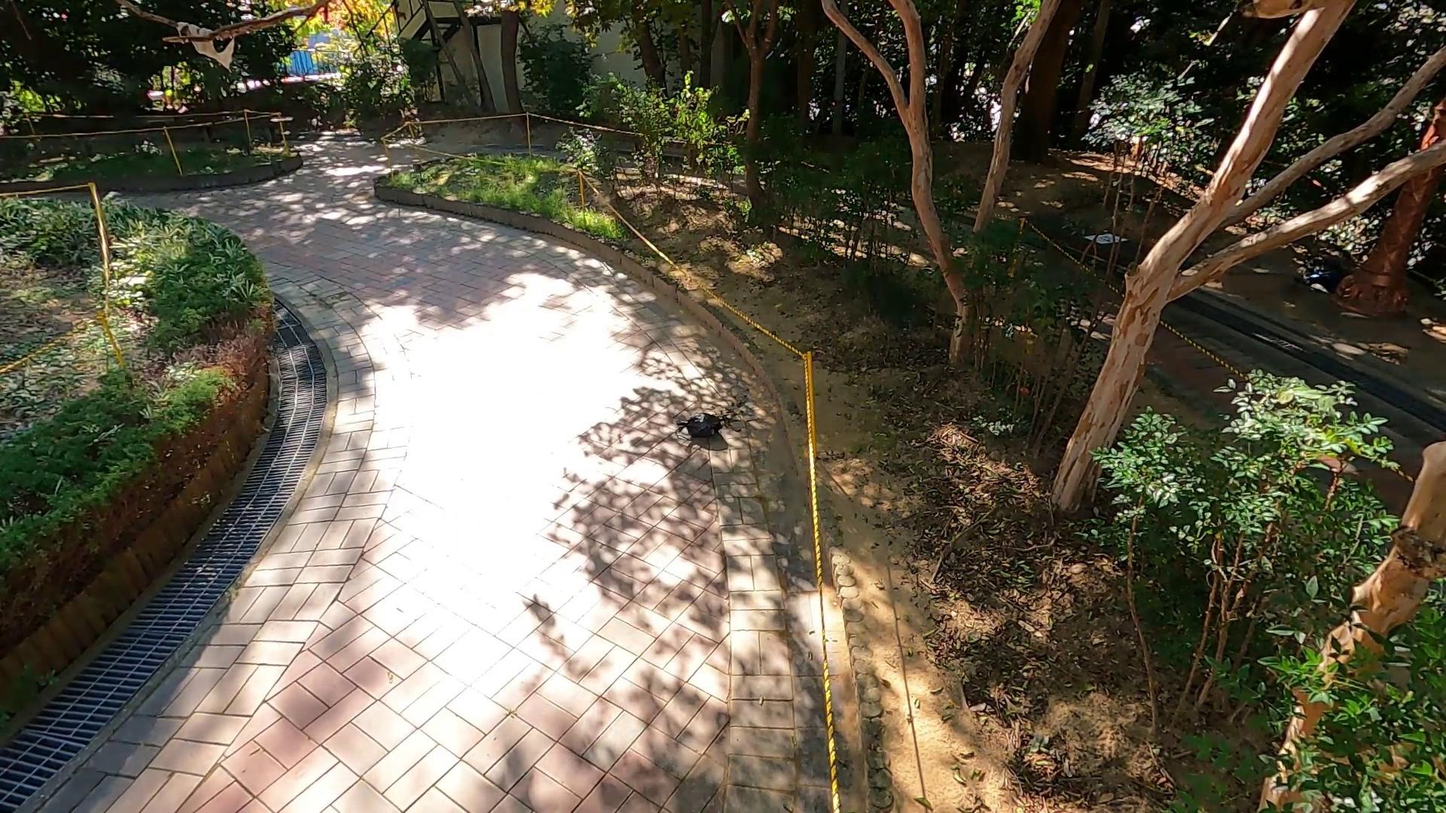trash: (684, 413, 722, 439)
